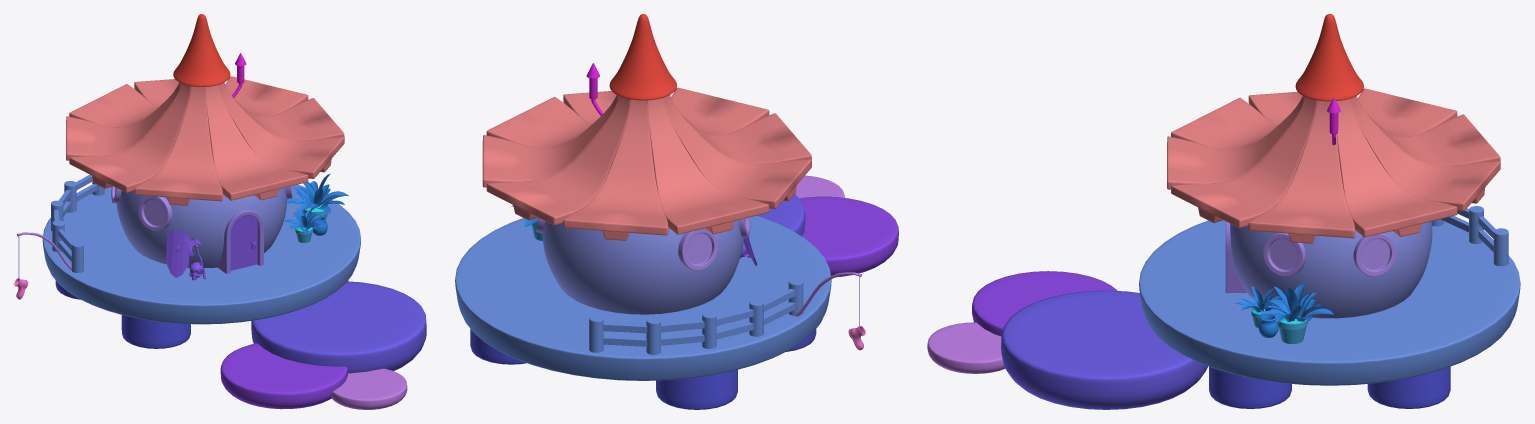
Rendered from Roier´s.fbx.
3 views of the same model, side by side, from view 1: azimuth 30°, elevation 25°; view 2: azimuth 150°, elevation 25°; view 3: azimuth 270°, elevation 25° (orthographic). The views are drawn at different scales.
Visible parts, largest first — view 1: Plane.004, Circle.004, Circle.006, Casa.001, Circle.002, Circle.003, Casa.003, Circle.001, Circle.005, Casa.005, Casa.006, Potted_plants (+3 smaller); view 2: Plane.004, Circle.004, Casa.001, Circle.002, Circle.001, Circle.005, Casa.003, Casa.006, Circle.006, Circle.003, Cylinder; view 3: Plane.004, Circle.004, Circle.006, Casa.001, Circle.005, Circle.002, Casa.003, Circle.003, Casa.006, Potted_plants, Circle.001, Casa.004 (+1 smaller).
Boxes of the visible parts, bbox=[...] form: Plane.004: bbox=[66, 76, 344, 205]; Circle.004: bbox=[42, 184, 360, 324]; Circle.006: bbox=[251, 281, 426, 373]; Casa.001: bbox=[116, 188, 286, 268]; Circle.002: bbox=[220, 343, 347, 409]; Circle.003: bbox=[331, 368, 407, 409]; Casa.003: bbox=[173, 14, 230, 86]; Circle.001: bbox=[51, 174, 104, 272]; Circle.005: bbox=[55, 280, 348, 348]; Casa.005: bbox=[230, 215, 257, 270]; Casa.006: bbox=[111, 186, 292, 231]; Potted_plants: bbox=[287, 174, 348, 217]; Plane.004: bbox=[482, 87, 811, 240]; Circle.004: bbox=[455, 215, 831, 380]; Casa.001: bbox=[542, 220, 743, 314]; Circle.002: bbox=[799, 196, 898, 277]; Circle.001: bbox=[589, 278, 803, 354]; Circle.005: bbox=[470, 329, 816, 409]; Casa.003: bbox=[609, 14, 676, 100]; Casa.006: bbox=[536, 217, 750, 270]; Circle.006: bbox=[757, 194, 805, 236]; Circle.003: bbox=[795, 175, 844, 198]; Cylinder: bbox=[586, 63, 603, 115]; Plane.004: bbox=[1167, 88, 1500, 243]; Circle.004: bbox=[1139, 220, 1520, 385]; Circle.006: bbox=[1001, 290, 1207, 409]; Casa.001: bbox=[1230, 221, 1432, 318]; Circle.005: bbox=[1209, 366, 1450, 408]; Circle.002: bbox=[972, 271, 1117, 336]; Casa.003: bbox=[1295, 14, 1363, 101]; Circle.003: bbox=[927, 322, 1005, 373]; Casa.006: bbox=[1263, 232, 1396, 276]; Potted_plants: bbox=[1258, 283, 1333, 343]; Circle.001: bbox=[1431, 206, 1508, 266]; Casa.004: bbox=[1225, 221, 1246, 292].
Size of the model in its own units: 2845 by 2317 by 3756.
